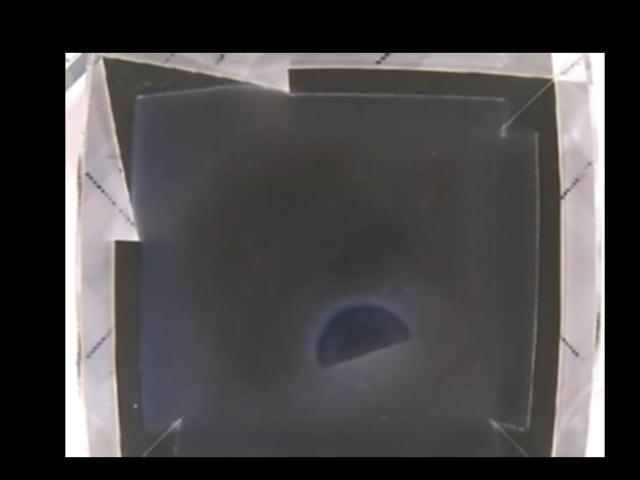Mooli: (313, 303, 413, 367)
